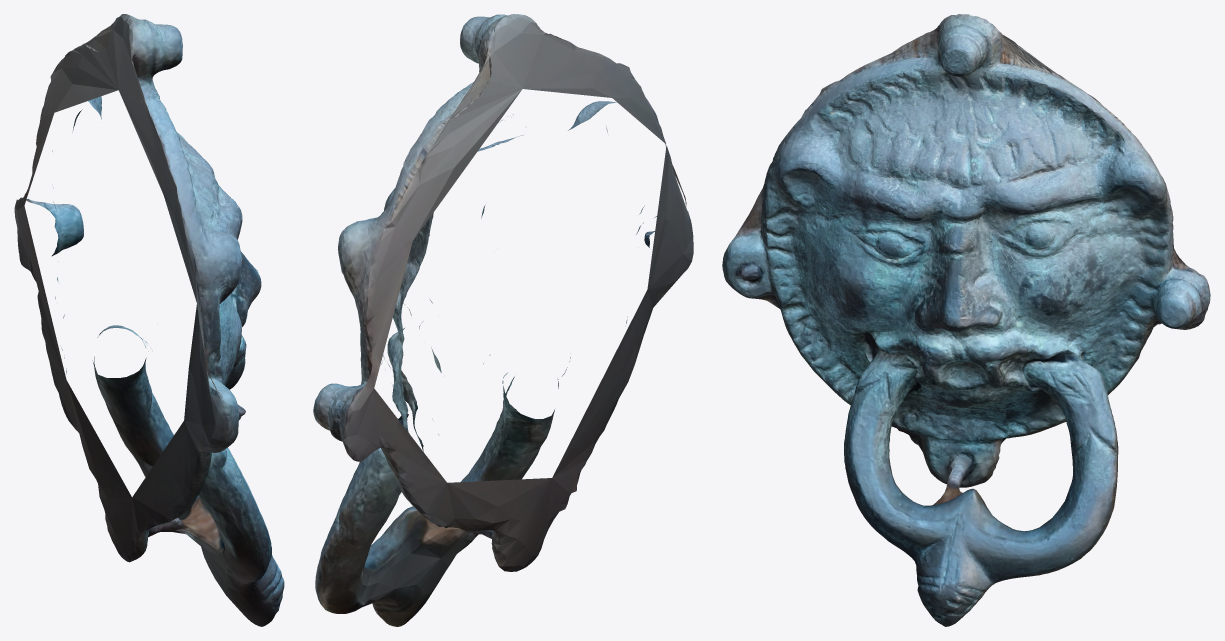
Rendered from aldaba.glb.
3 views of the same model, side by side, from view 1: azimuth 30°, elevation 25°; view 2: azimuth 150°, elevation 25°; view 3: azimuth 270°, elevation 25° (orthographic). The views are drawn at different scales.
Bounding box in the file's own units: 0.2885 × 0.9181 × 0.7265.
Materials: 1 (1 with a texture image).
